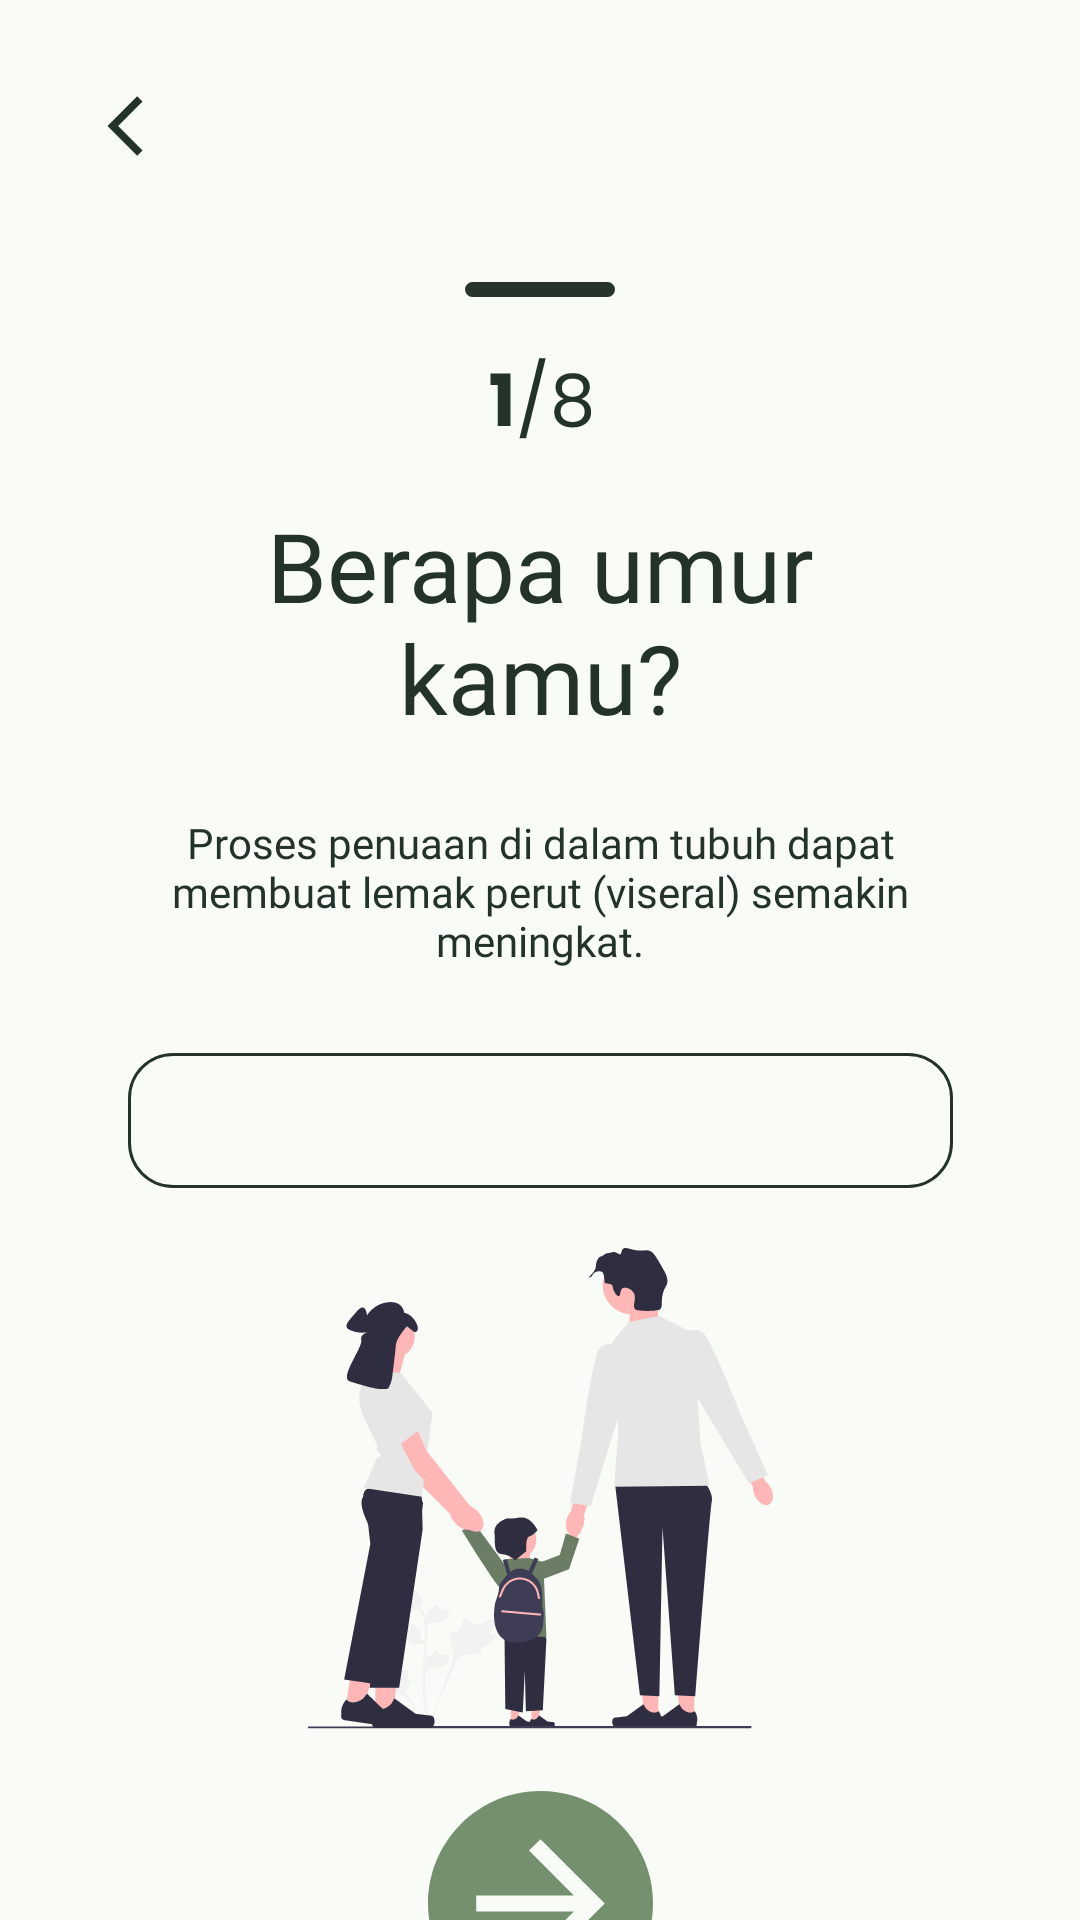

Icon click points for this 1080px×1920px phone screenshot, format [x,y]:
back: [125,126]
